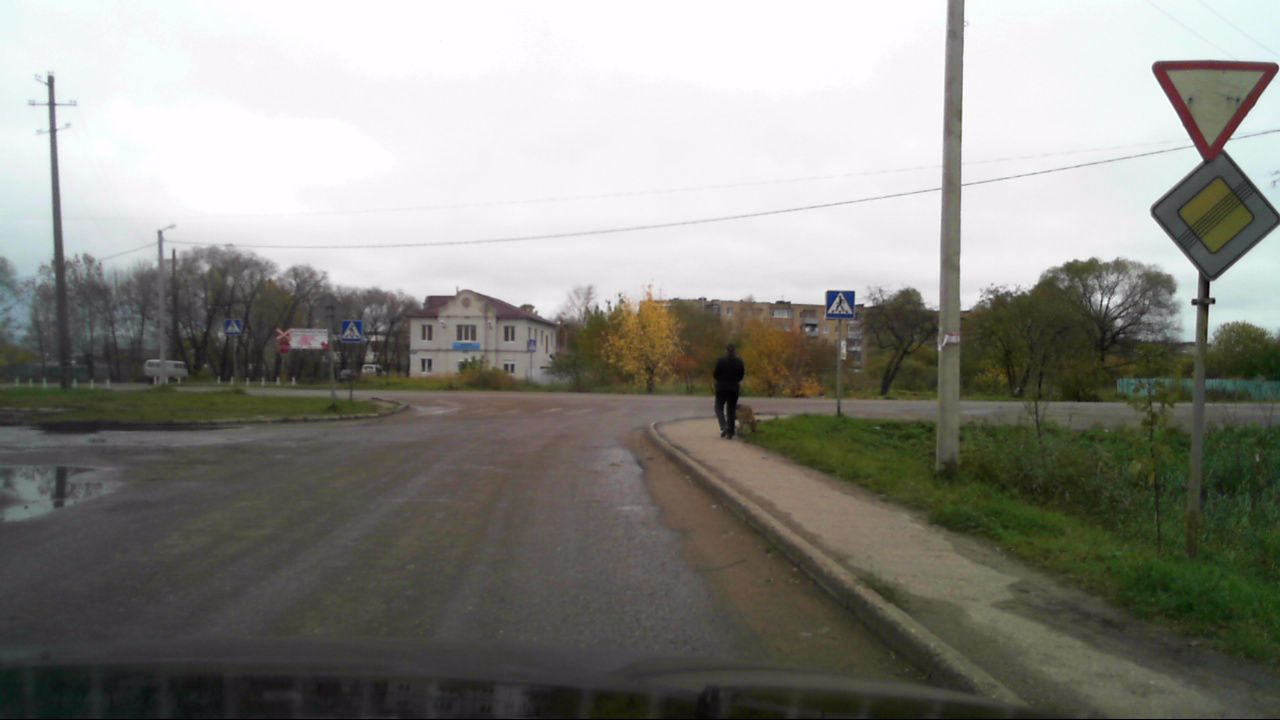main road: (1154, 144, 1279, 285)
